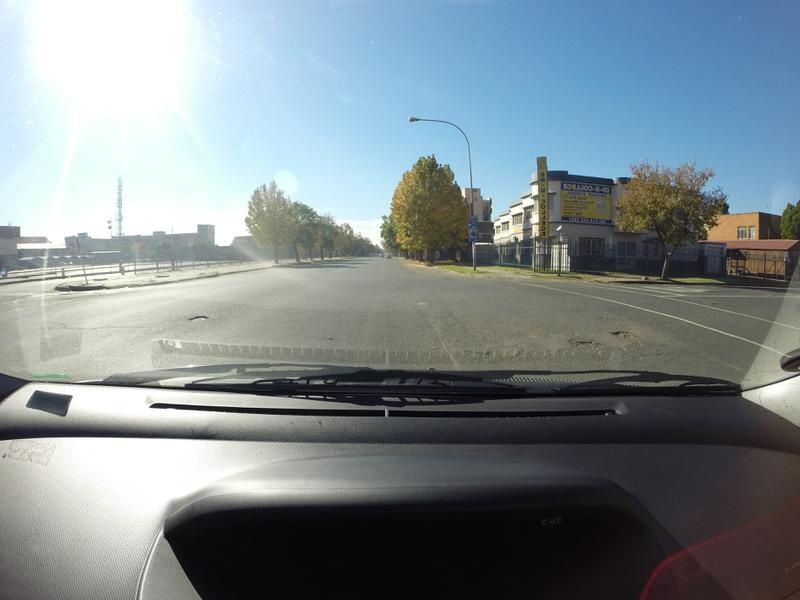pothole: (570, 332, 595, 355), (606, 327, 640, 341), (188, 311, 209, 322)
